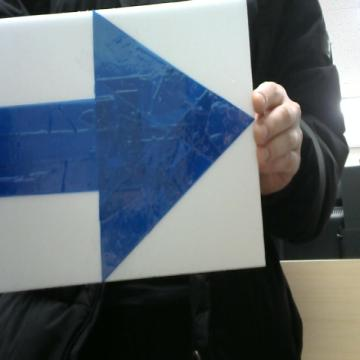blue_right: (0, 12, 253, 279)
